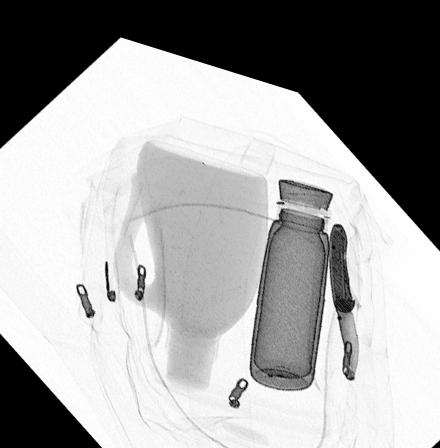Knife: (326, 200, 358, 358)
